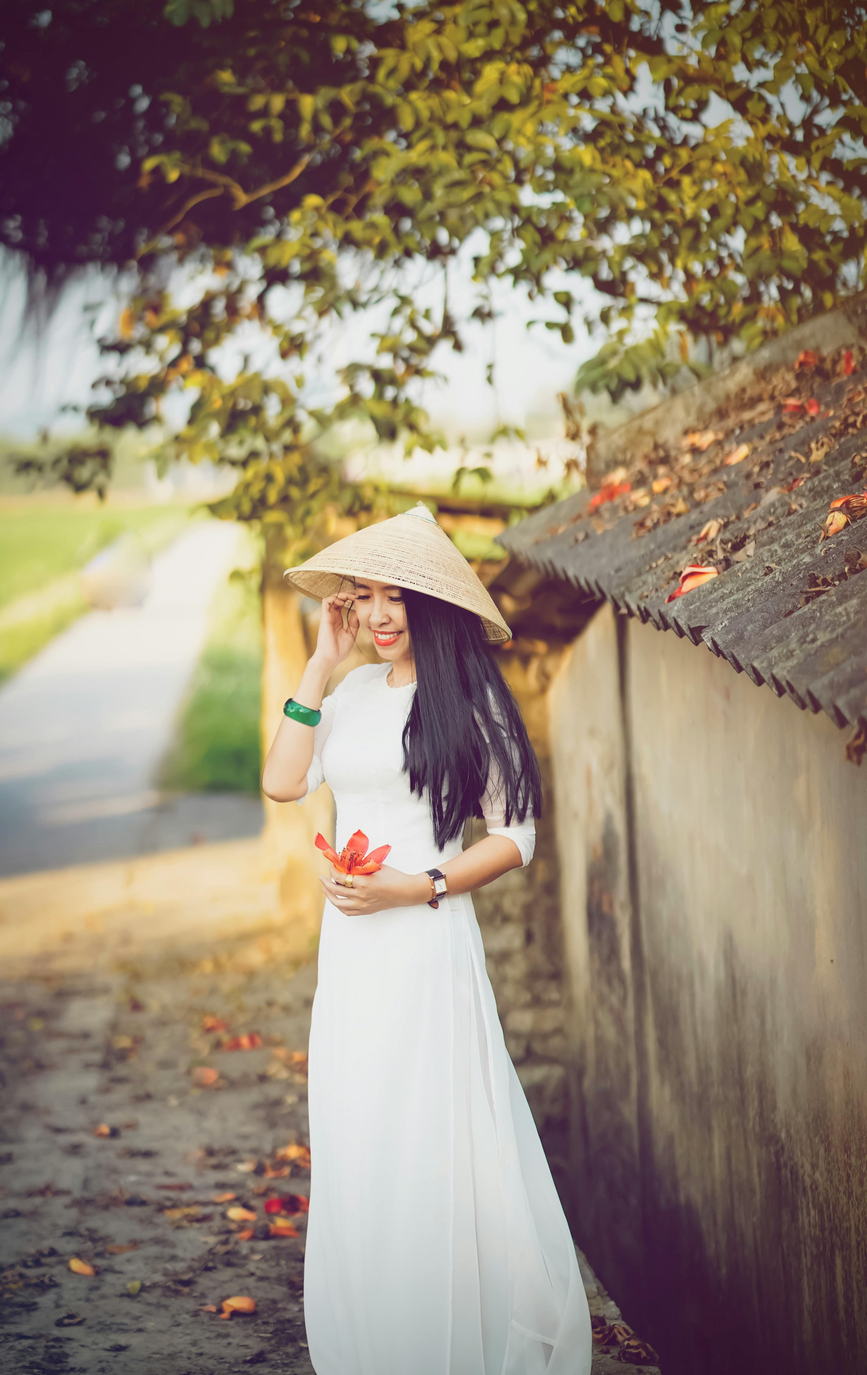cap: (270, 504, 543, 645)
